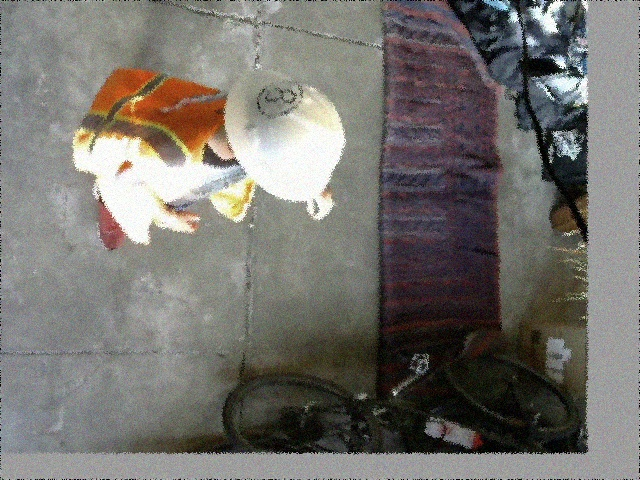eight: (257, 80, 303, 118)
